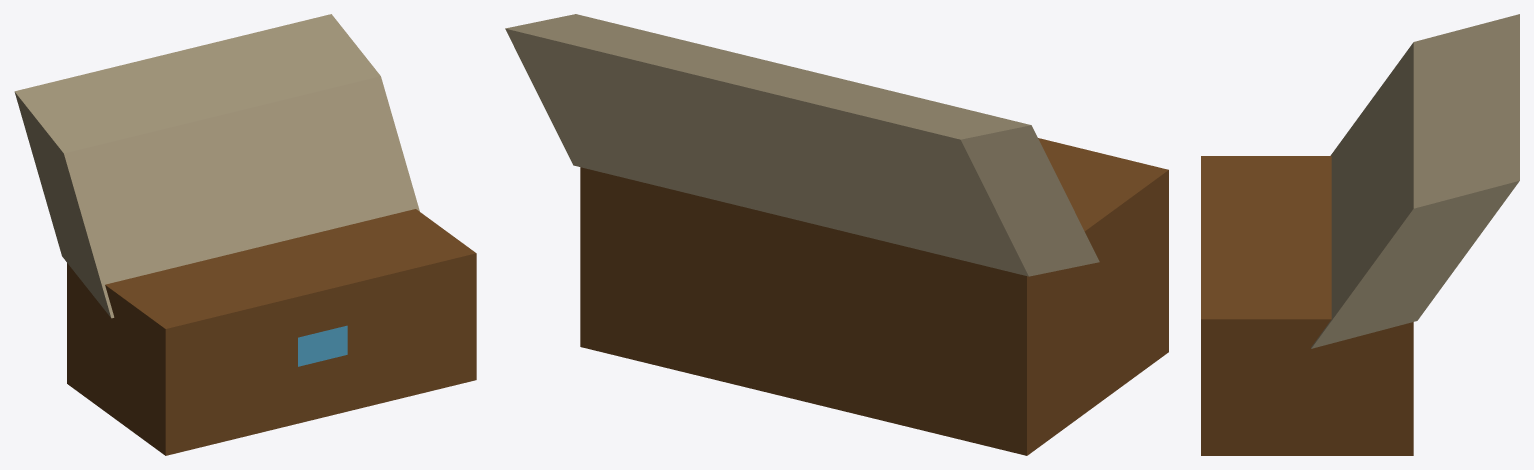
The model's file is chest_open.obj.
3 views of the same model, side by side, from view 1: azimuth 30°, elevation 25°; view 2: azimuth 150°, elevation 25°; view 3: azimuth 270°, elevation 25° (orthographic). The views are drawn at different scales.
Visible parts, largest first — view 1: chest_open; view 2: chest_open; view 3: chest_open.
Part boxes in pixels (left/top/right/bottom): chest_open: left=14, top=14, right=476, bottom=455; chest_open: left=505, top=14, right=1168, bottom=455; chest_open: left=1201, top=14, right=1519, bottom=455.
Bounding box in the file's own units: 2.04 × 1.58 × 1.67.
